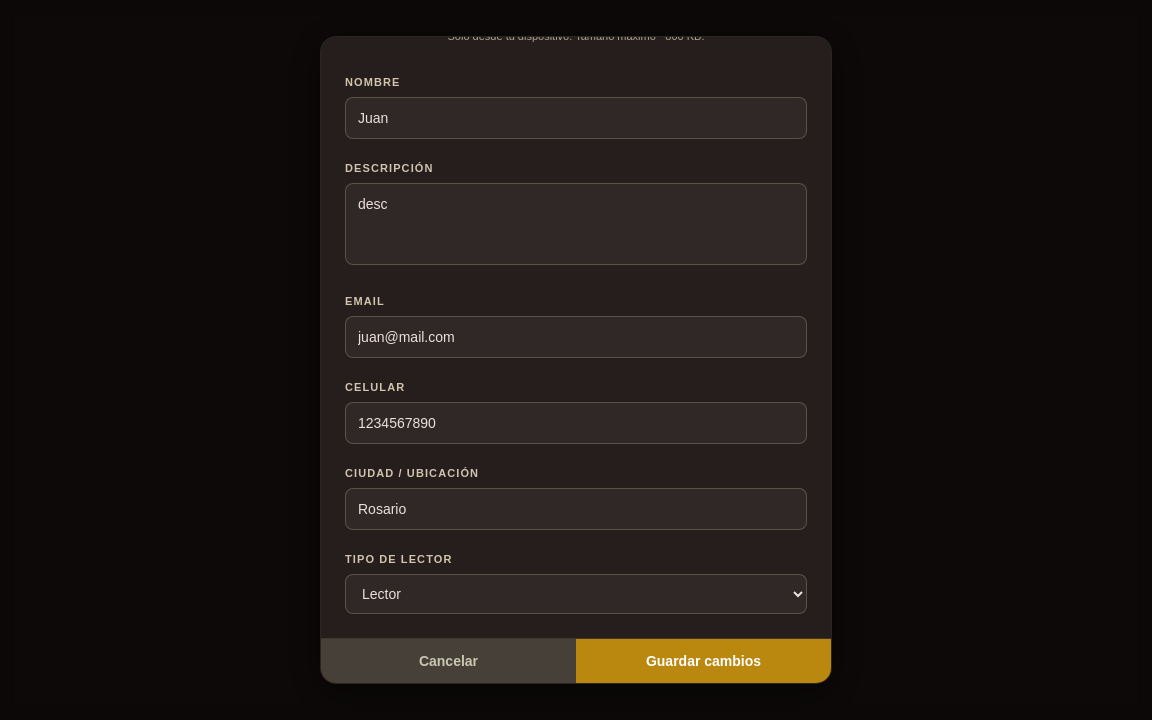
Test: ModalEditarPerfil › muestra error en email cuando backend devuelve 409 por email duplicado
The width and height of the screenshot is (1152, 720).
(page scrolled)
Click the button "Guardar cambios" at (704, 660), box [576,638,831,682]
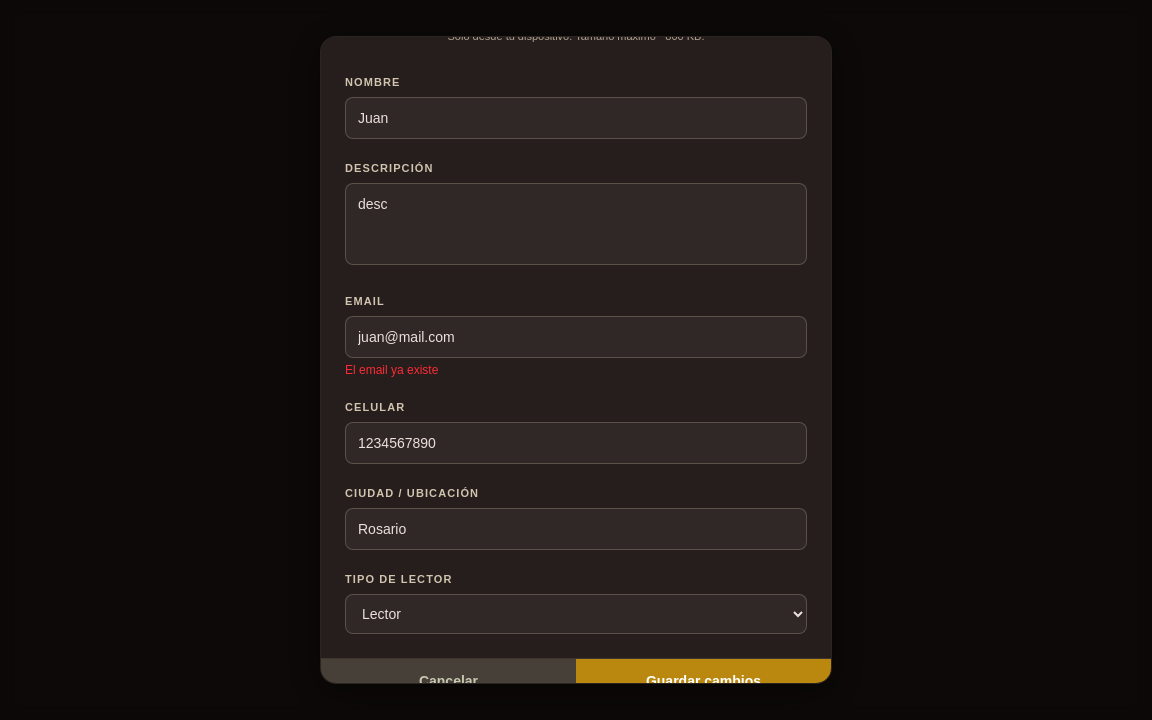
expect the text "El email ya existe" is shown: met, box [345,362,438,376]
